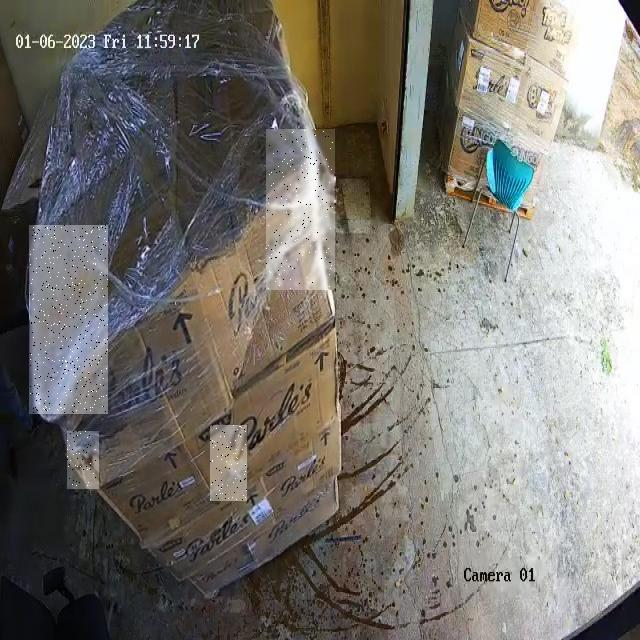leakage: (210, 426, 247, 500), (68, 431, 97, 488)
squeeze: (30, 225, 108, 413), (267, 130, 333, 289)
